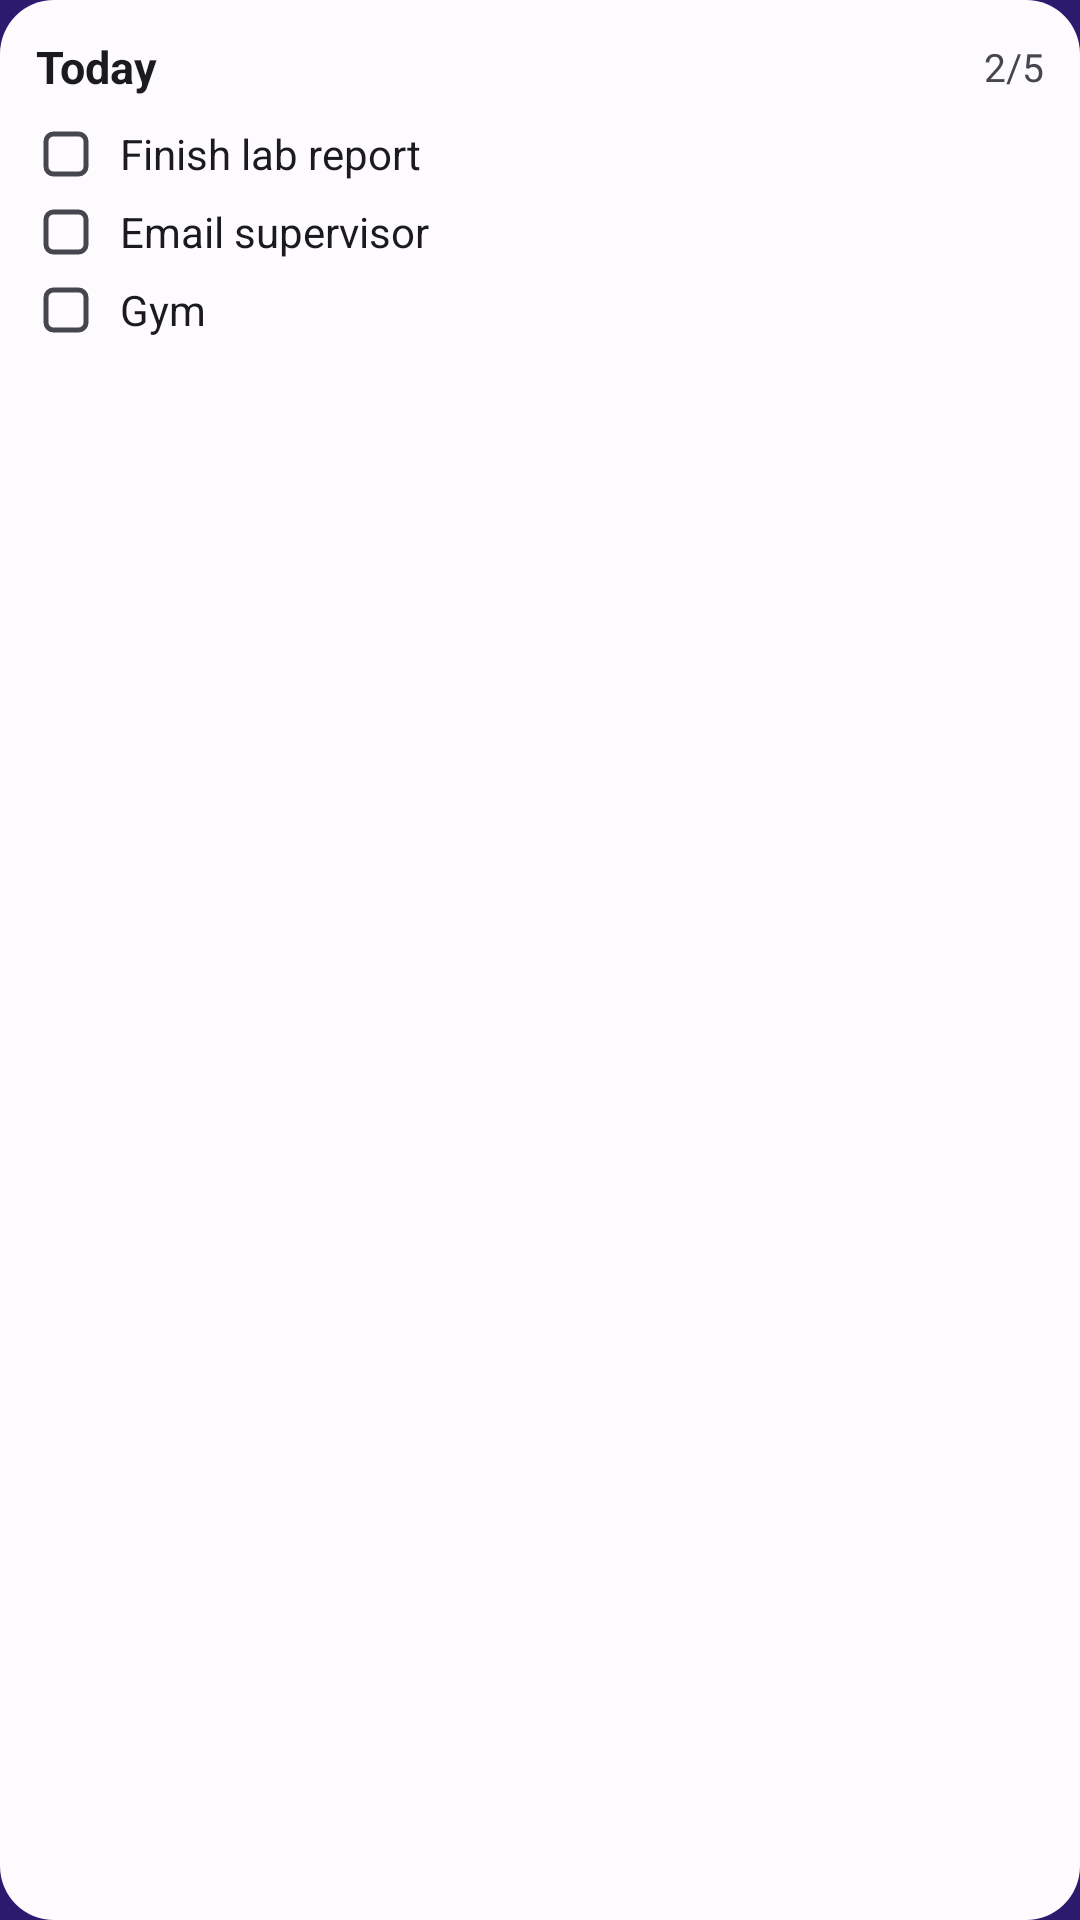

Icons on this 1080*1920 Android screen, each with its box as (x1=x1, y1=y1, x2=x2, y2=y2):
widget checkbox: (x1=43, y1=131, x2=89, y2=177), (x1=43, y1=209, x2=89, y2=255), (x1=43, y1=287, x2=89, y2=333)
